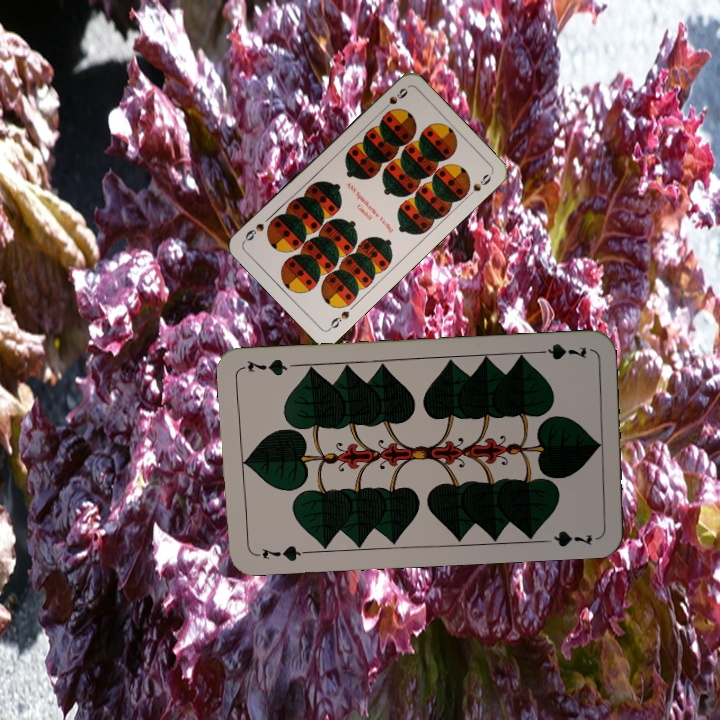G7: (530, 339, 589, 363), (258, 541, 309, 564)
S9: (377, 83, 411, 115), (325, 307, 352, 333)
